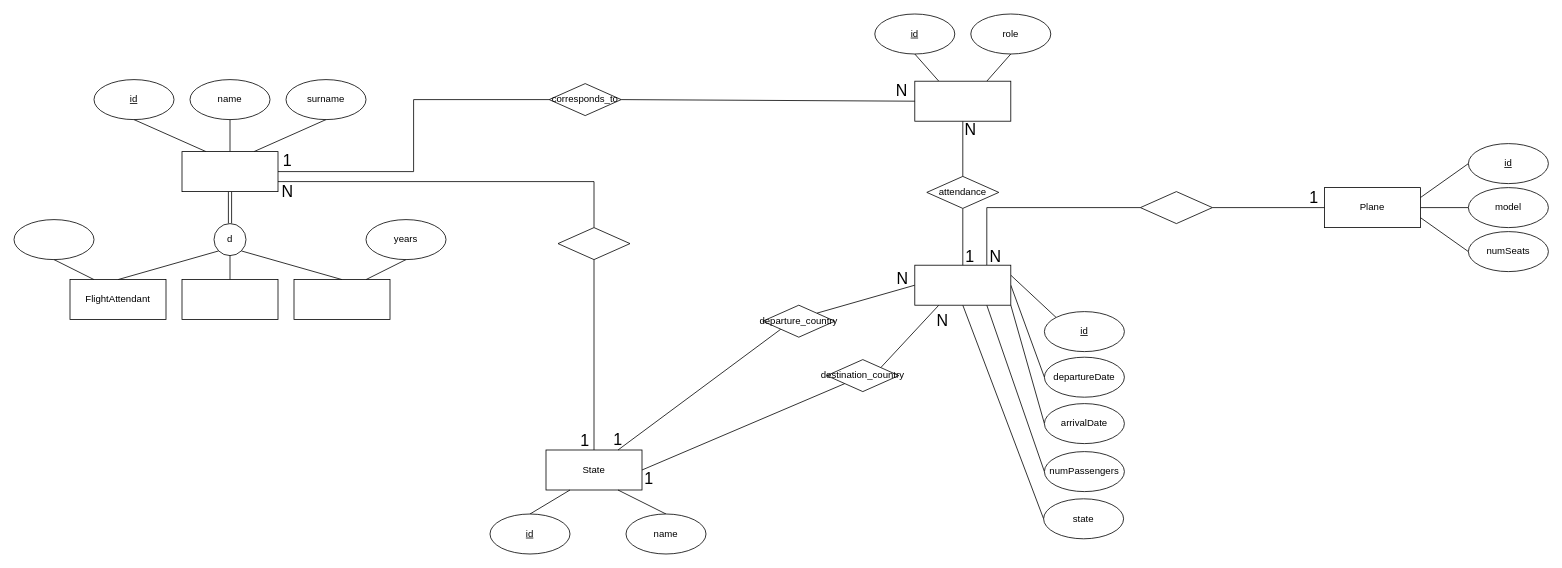
Some shapes in this 1562 by 568 pixel diagram are drawn without their labels. The shapes that lost their labels are listed below. From the top down, each one's box as (x1, y1, x2, y2) in pixels, then its label:
(914, 80, 1011, 121): FlightParticipant
(181, 151, 278, 192): Person
(1140, 191, 1212, 224): usage
(13, 219, 94, 260): numFlights
(557, 227, 630, 260): place_of_birth
(181, 279, 278, 320): Passenger
(293, 279, 390, 320): Pilot
(914, 264, 1011, 305): Flight
